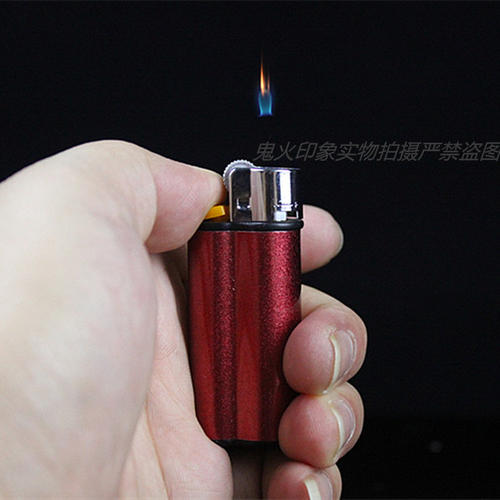fire: (246, 57, 283, 129)
